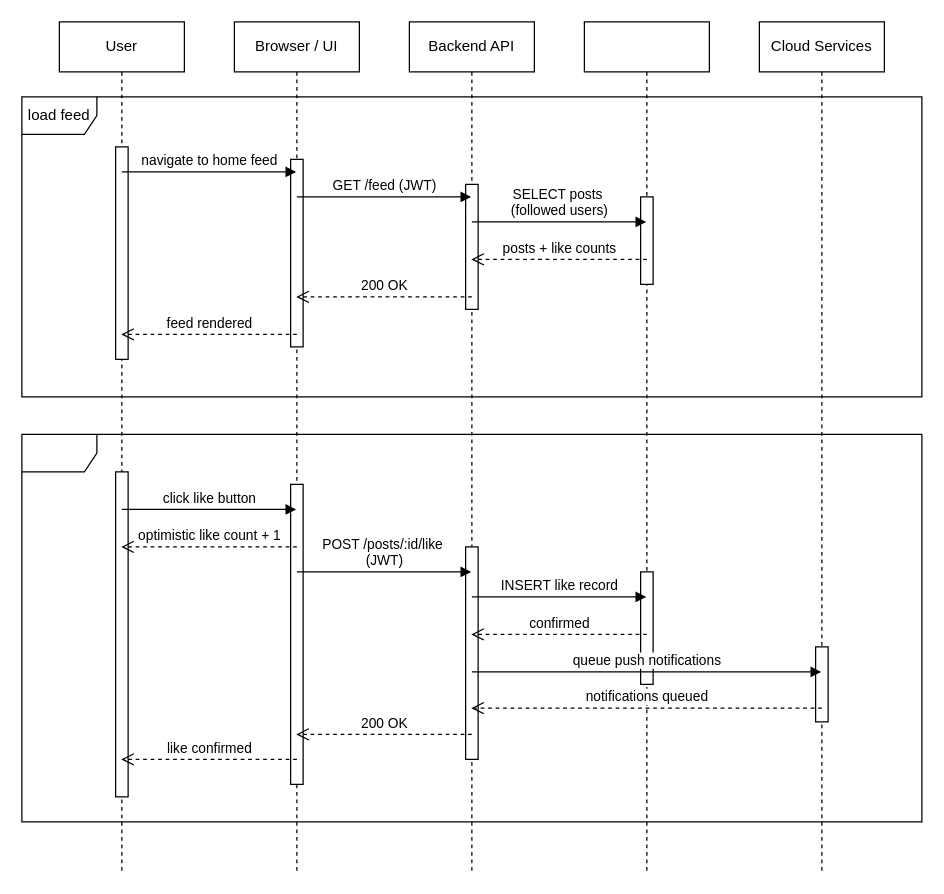
This 944x894 diagram has some shape labels left out. Each missing label, with the box of its shape:
Database: (583, 21, 709, 872)
like post: (21, 433, 922, 822)
